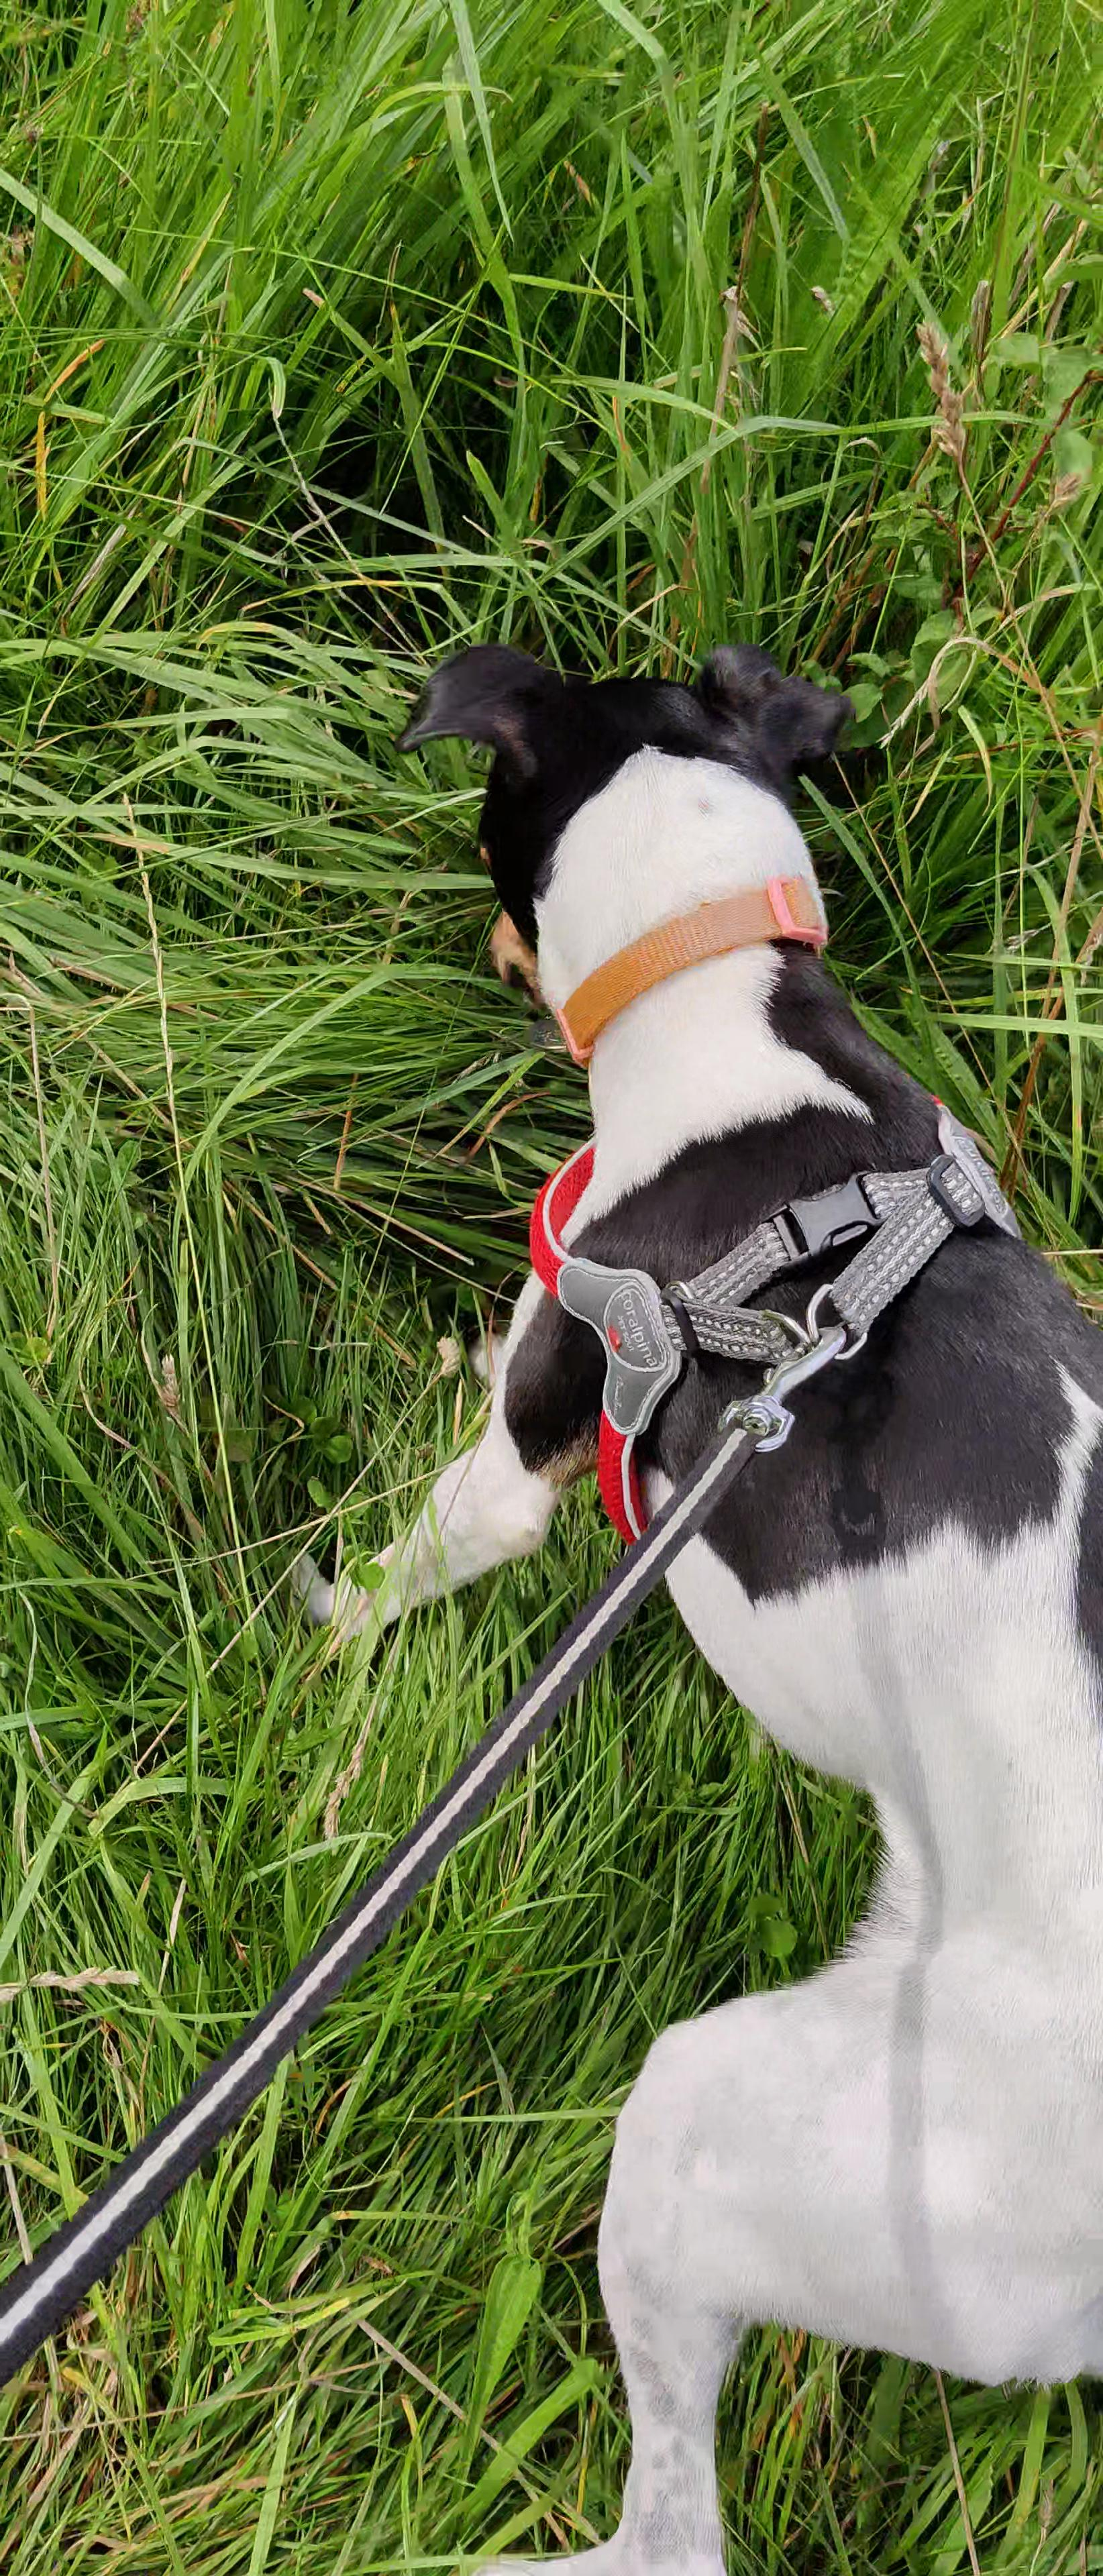Dog: (278, 629, 1103, 2576)
